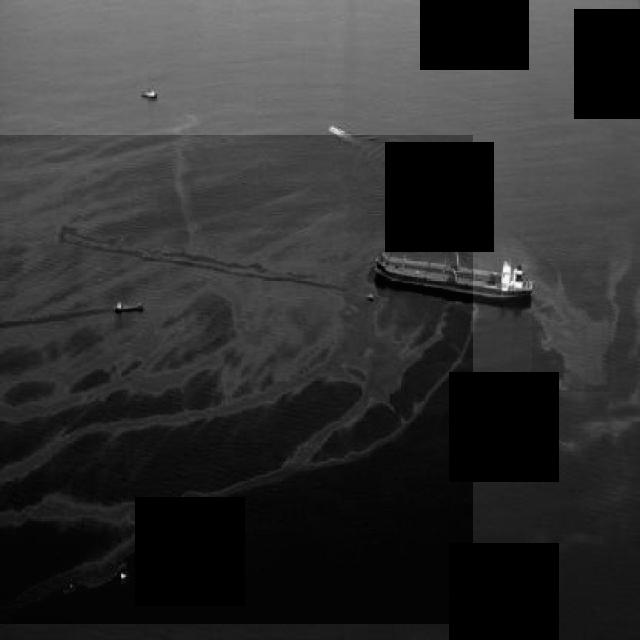oil spill: (0, 136, 473, 624), (532, 261, 611, 392)
